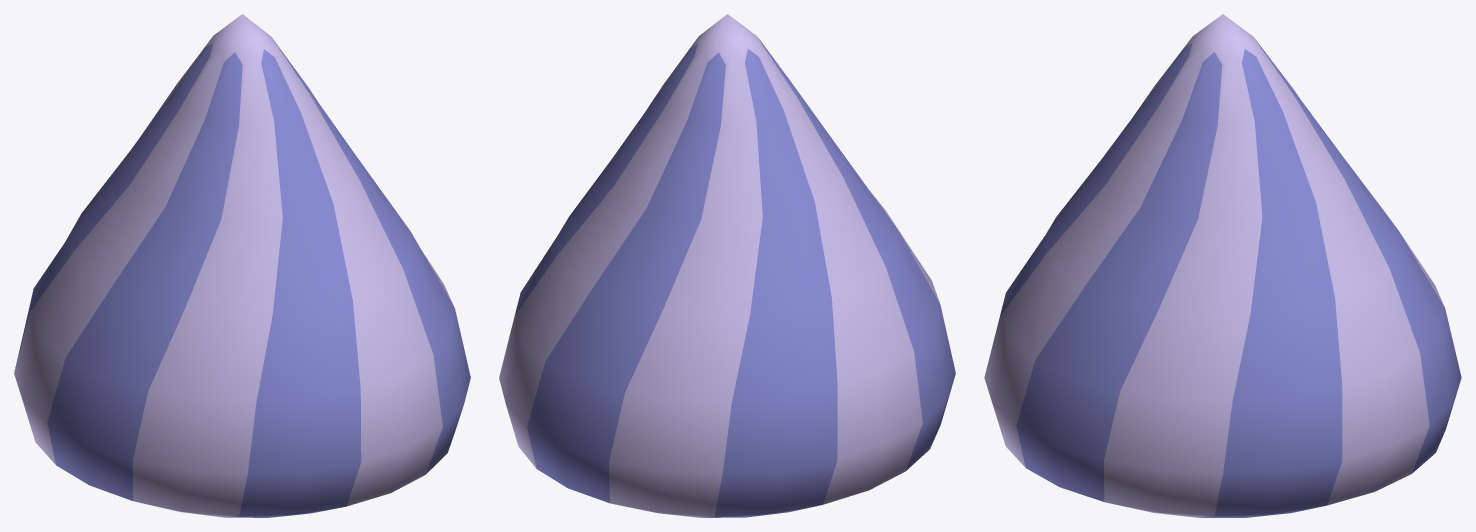
File: Candy_C_02.fbx
3 views of the same model, side by side, from view 1: azimuth 30°, elevation 25°; view 2: azimuth 150°, elevation 25°; view 3: azimuth 270°, elevation 25° (orthographic).
Visible parts, largest first — view 1: Candy_C_02_LOD0; view 2: Candy_C_02_LOD0; view 3: Candy_C_02_LOD0.
Boxes of the visible parts, x1,y1,x2,y2 form: Candy_C_02_LOD0: [14, 14, 470, 517]; Candy_C_02_LOD0: [499, 14, 955, 517]; Candy_C_02_LOD0: [984, 14, 1461, 517].
Size of what is drawn, in the model's own units: 312 by 330 by 328.
